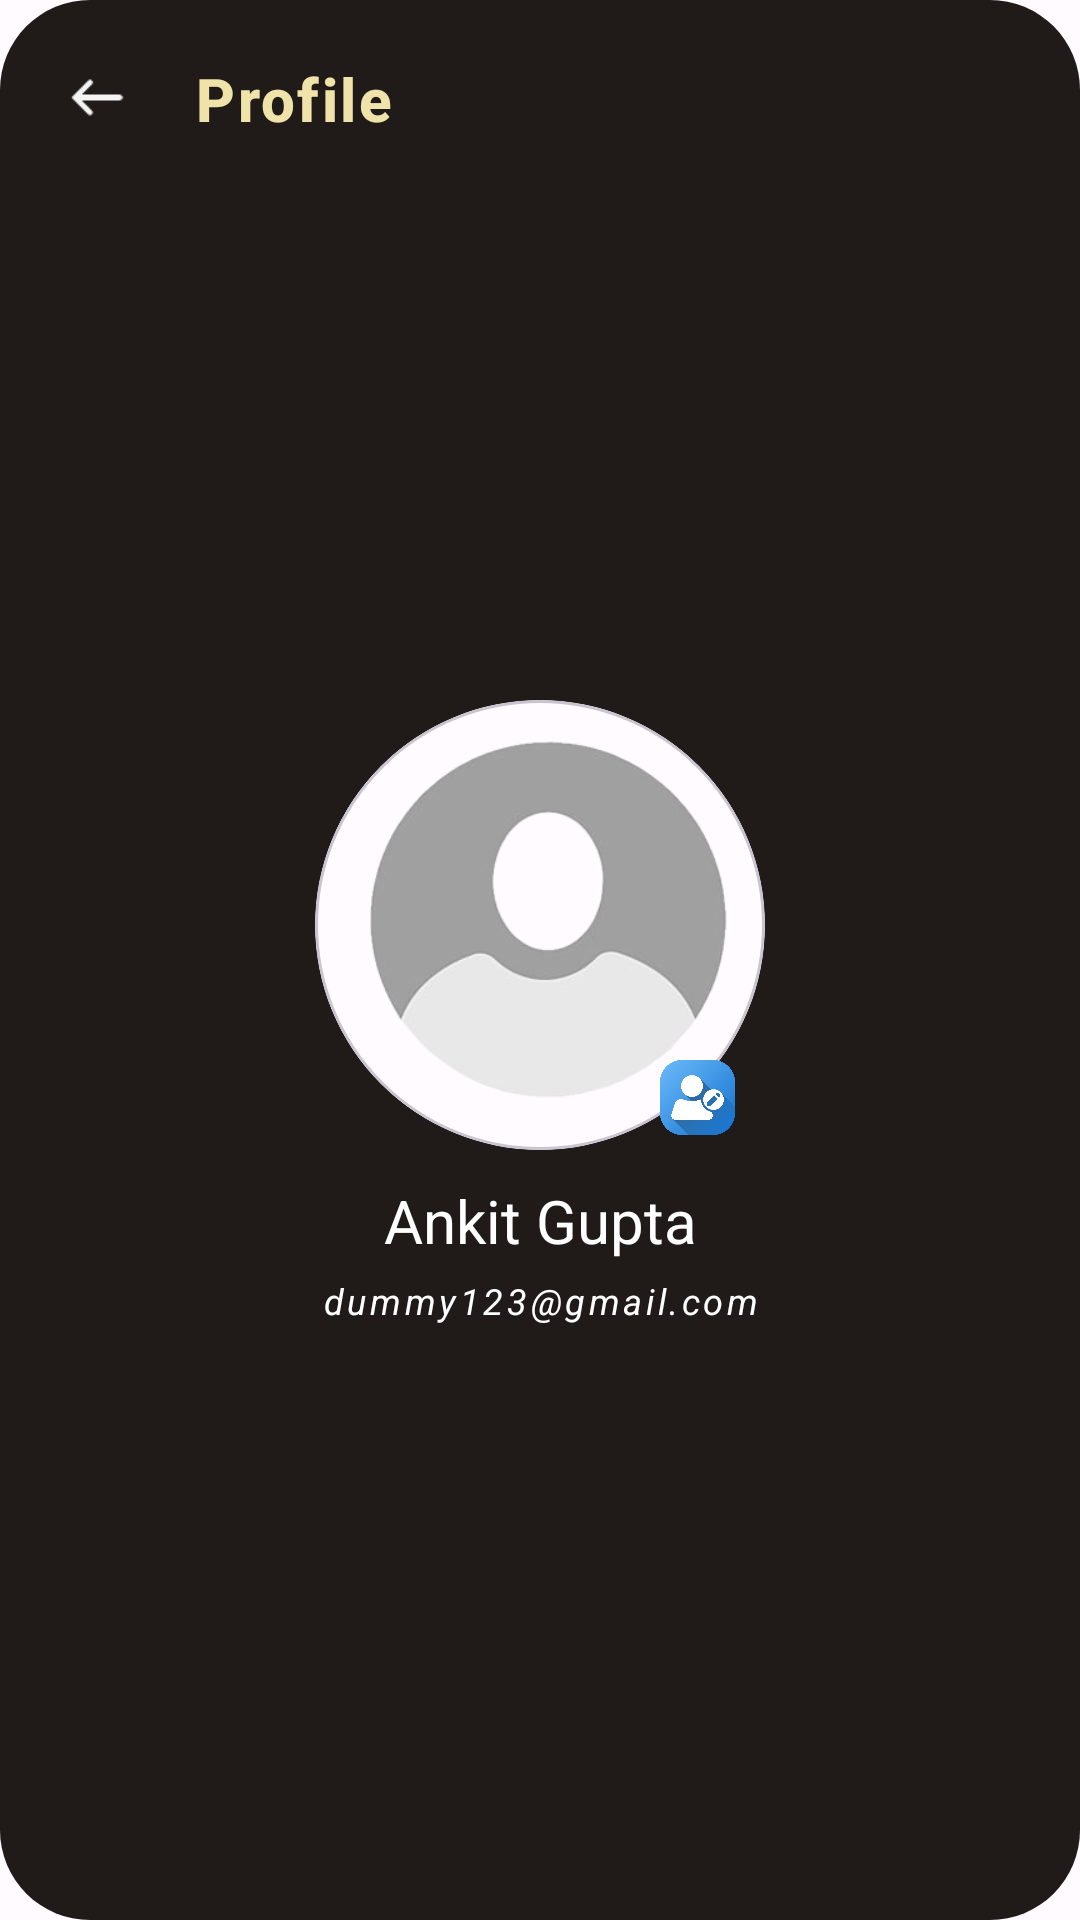

Screen size 1080w x 1920h. Icon name, then its center in pixels as point (x, y):
back: point (97, 97)
edit info: point (697, 1097)
